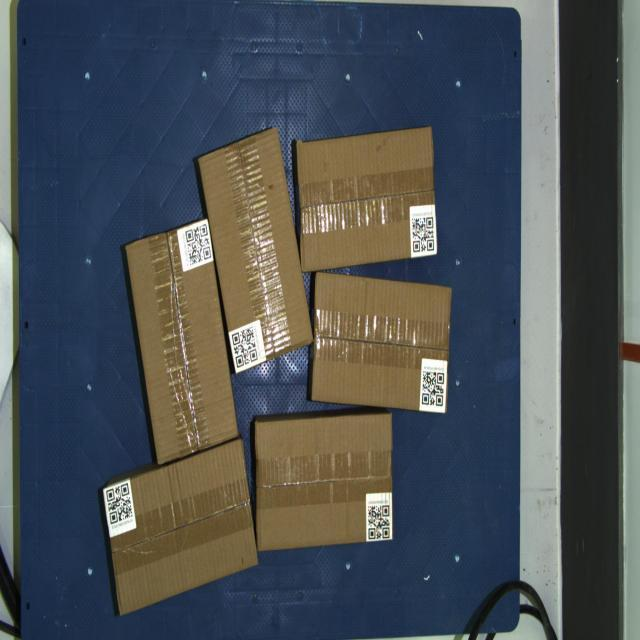box: (198, 126, 314, 374), (125, 218, 239, 465), (103, 438, 258, 616), (296, 126, 438, 272), (311, 272, 452, 414), (255, 414, 393, 552)
